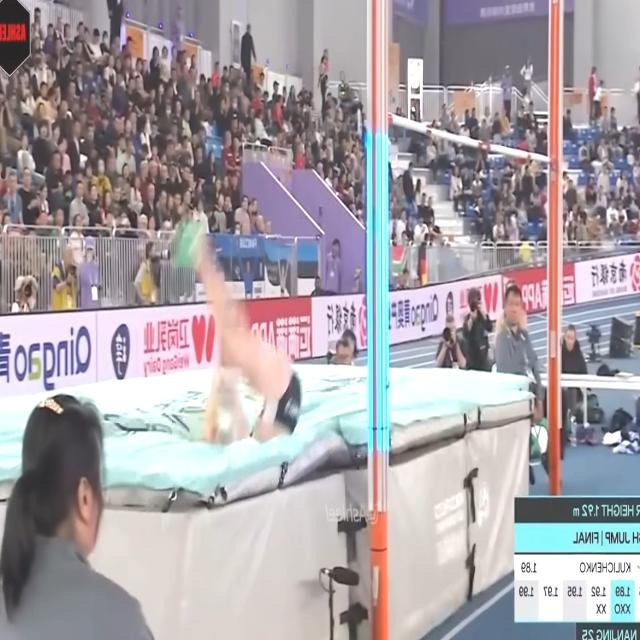land: (175, 211, 302, 442)
